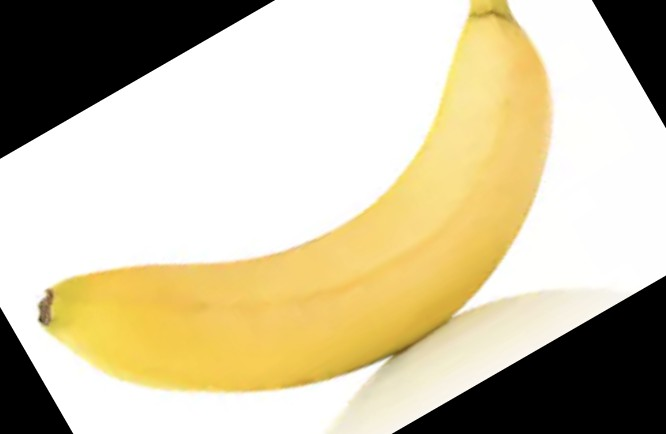fresh_banana: (38, 2, 551, 392)
